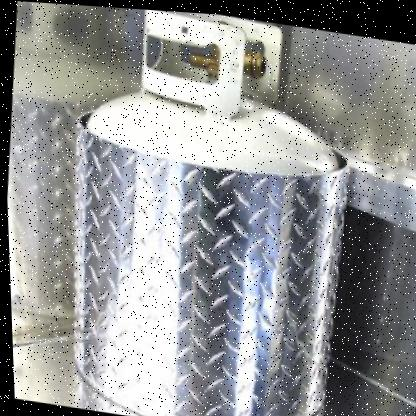gas-tank: (59, 3, 378, 205)
